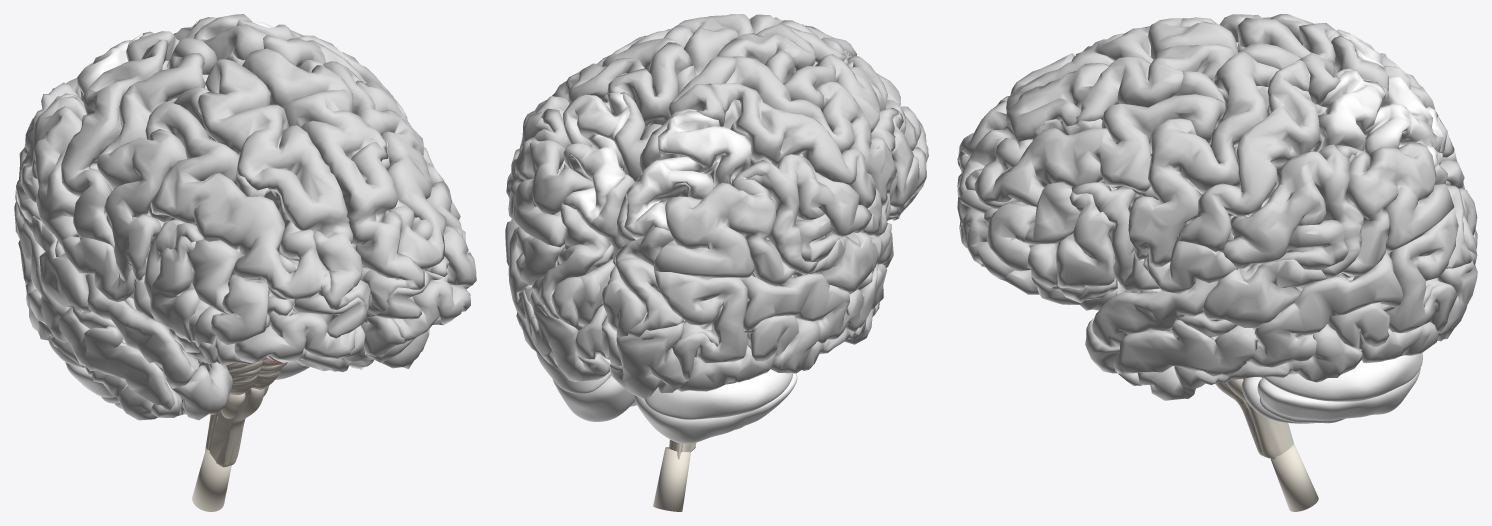
Rendered from brain.glb.
The picture shows the model from 3 angles, left to right: view 1: azimuth 30°, elevation 25°; view 2: azimuth 150°, elevation 25°; view 3: azimuth 270°, elevation 25°; orthographic projection. The views are drawn at different scales.
Visible parts, largest first — view 1: brain-middle-frontal-gyrus.r, brain-superior-frontal-gyrus.r, brain-superior-frontal-gyrus.l, brain-precentral-gyrus.r, brain-middle-frontal-gyrus.l, brain-postcentral-gyrus.r, brain-middle-temporal-gyrus.r, brain-superior-temporal-gyrus-lateral-part.r, brain-supramarginal-gyrus.r, brain-orbital-gyri-frontomarginal-gyrus-and-sulcus.r, brain-triangular-part-of-inferior-frontal-gyrus.r, brain-inferior-frontal-sulcus.r (+26 smaller); view 2: brain-angular-gyrus.r, brain-superior-parietal-lobule.r, brain-postcentral-gyrus.r, brain-supramarginal-gyrus.r, brain-lateral-occipital-gyrus-middle-occipital-gyrus.r, brain-angular-gyrus.l, brain-precentral-gyrus.r, brain-middle-temporal-gyrus.r, brain-superior-parietal-lobule.l, brain-middle-frontal-gyrus.r, brain-inferior-temporal-gyrus.r, brain-superior-semilunar-lobule.r (+32 smaller); view 3: brain-middle-frontal-gyrus.l, brain-precentral-gyrus.l, brain-middle-temporal-gyrus.l, brain-superior-frontal-gyrus.l, brain-postcentral-gyrus.l, brain-supramarginal-gyrus.l, brain-superior-temporal-gyrus-lateral-part.l, brain-angular-gyrus.l, brain-inferior-temporal-gyrus.l, brain-superior-frontal-gyrus.r, brain-superior-parietal-lobule.l, brain-lateral-occipital-gyrus-middle-occipital-gyrus.l (+27 smaller).
Boxes of the visible parts, bbox=[...] form: brain-middle-frontal-gyrus.r: bbox=[145, 101, 330, 344]; brain-superior-frontal-gyrus.r: bbox=[197, 59, 370, 314]; brain-superior-frontal-gyrus.l: bbox=[226, 48, 424, 322]; brain-precentral-gyrus.r: bbox=[96, 53, 205, 281]; brain-middle-frontal-gyrus.l: bbox=[323, 61, 476, 286]; brain-postcentral-gyrus.r: bbox=[61, 39, 168, 247]; brain-middle-temporal-gyrus.r: bbox=[14, 202, 174, 411]; brain-superior-temporal-gyrus-lateral-part.r: bbox=[25, 216, 196, 388]; brain-supramarginal-gyrus.r: bbox=[15, 96, 86, 245]; brain-orbital-gyri-frontomarginal-gyrus-and-sulcus.r: bbox=[234, 303, 355, 362]; brain-triangular-part-of-inferior-frontal-gyrus.r: bbox=[150, 236, 200, 342]; brain-inferior-frontal-sulcus.r: bbox=[148, 203, 242, 313]; brain-angular-gyrus.r: bbox=[654, 159, 795, 285]; brain-superior-parietal-lobule.r: bbox=[624, 110, 751, 239]; brain-postcentral-gyrus.r: bbox=[710, 83, 875, 208]; brain-supramarginal-gyrus.r: bbox=[746, 154, 871, 274]; brain-lateral-occipital-gyrus-middle-occipital-gyrus.r: bbox=[654, 270, 747, 380]; brain-angular-gyrus.l: bbox=[508, 108, 593, 247]; brain-precentral-gyrus.r: bbox=[726, 56, 896, 206]; brain-middle-temporal-gyrus.r: bbox=[741, 263, 887, 343]; brain-superior-parietal-lobule.l: bbox=[562, 92, 632, 226]; brain-middle-frontal-gyrus.r: bbox=[783, 54, 928, 162]; brain-inferior-temporal-gyrus.r: bbox=[744, 307, 875, 373]; brain-superior-semilunar-lobule.r: bbox=[644, 369, 793, 419]; brain-middle-frontal-gyrus.l: bbox=[965, 94, 1226, 271]; brain-precentral-gyrus.l: bbox=[1128, 50, 1279, 267]; brain-middle-temporal-gyrus.l: bbox=[1114, 252, 1402, 376]; brain-superior-frontal-gyrus.l: bbox=[957, 44, 1234, 197]; brain-postcentral-gyrus.l: bbox=[1175, 59, 1320, 252]; brain-supramarginal-gyrus.l: bbox=[1222, 144, 1363, 278]; brain-superior-temporal-gyrus-lateral-part.l: bbox=[1092, 259, 1328, 348]; brain-angular-gyrus.l: bbox=[1334, 143, 1454, 277]; brain-inferior-temporal-gyrus.l: bbox=[1138, 302, 1395, 400]; brain-superior-frontal-gyrus.r: bbox=[957, 18, 1244, 174]; brain-superior-parietal-lobule.l: bbox=[1318, 71, 1443, 167]; brain-lateral-occipital-gyrus-middle-occipital-gyrus.l: bbox=[1386, 207, 1458, 333].
Bounding box in the file's own units: 0.035 × 0.0459 × 0.0459.
